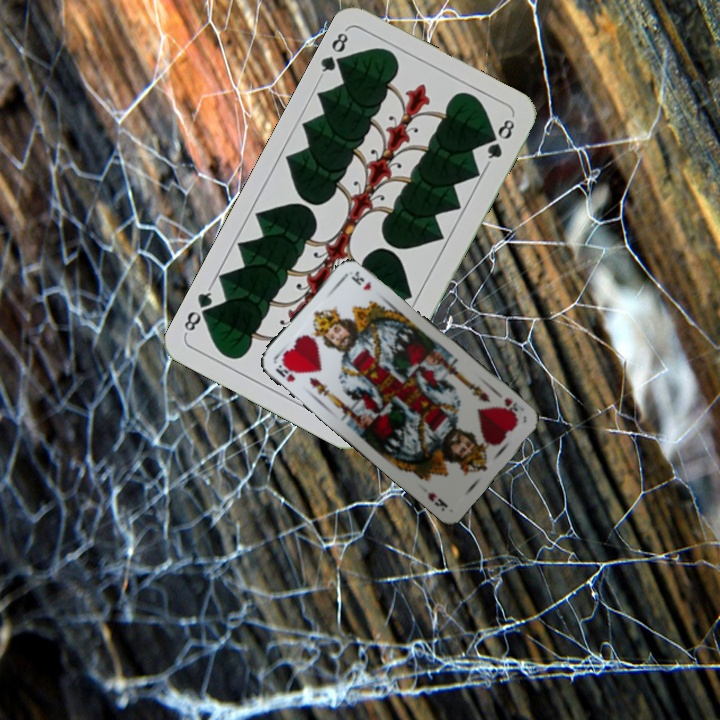G8: (315, 25, 352, 81)
HK: (271, 356, 300, 385), (500, 393, 522, 422)
